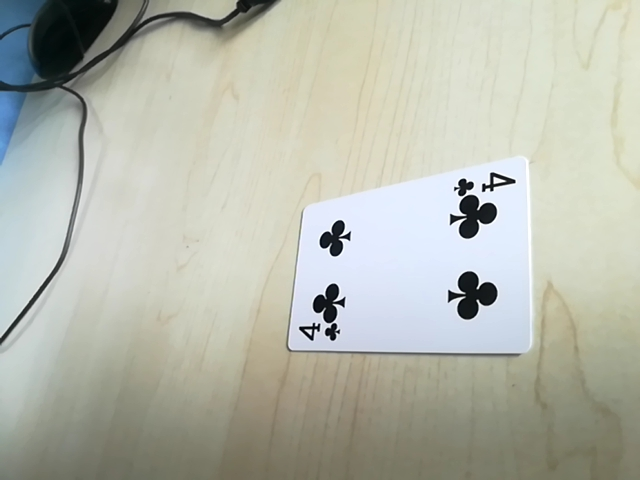mh 4: (452, 166, 519, 196), (291, 316, 343, 349)
